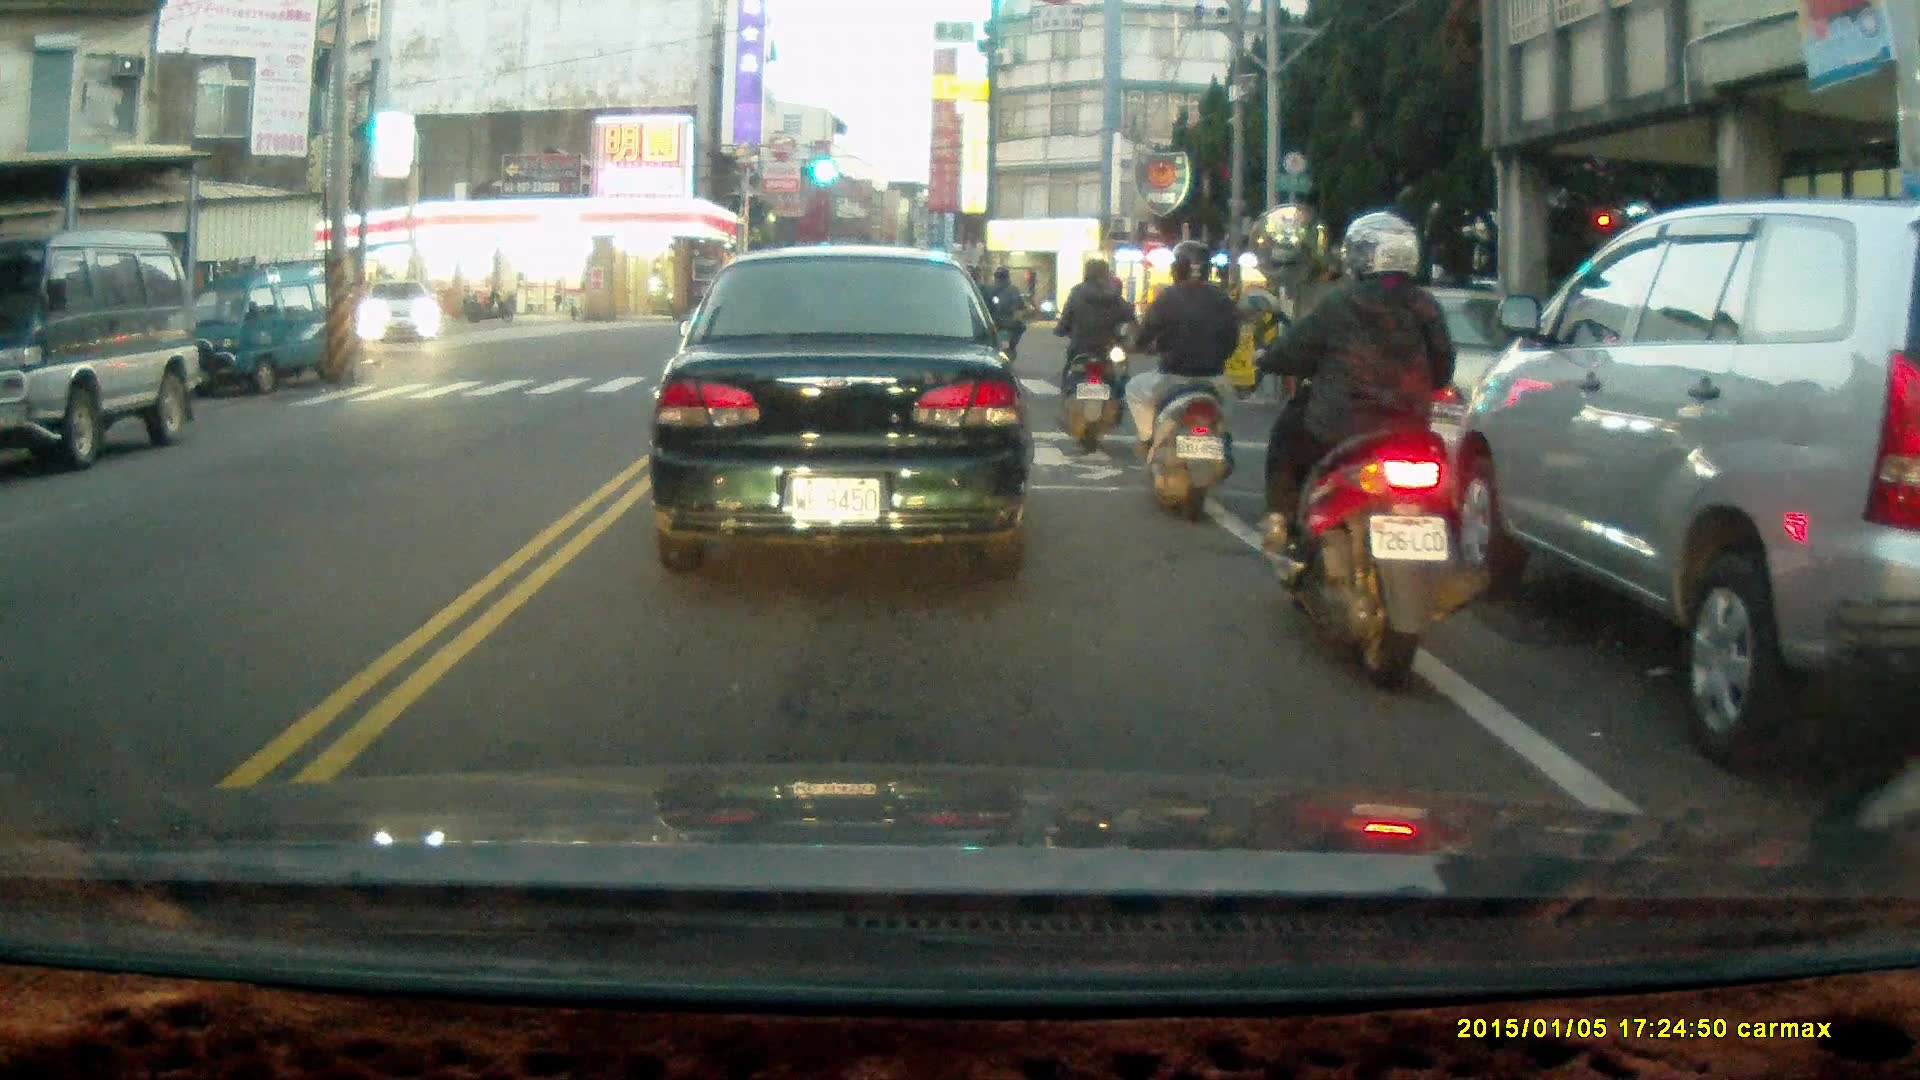rider: (1252, 209, 1488, 694), (1107, 242, 1244, 520), (1038, 260, 1128, 454), (979, 266, 1024, 369)
vehicle: (1423, 195, 1920, 760), (648, 244, 1034, 582), (1, 234, 198, 462), (171, 262, 353, 401), (364, 279, 445, 346)
